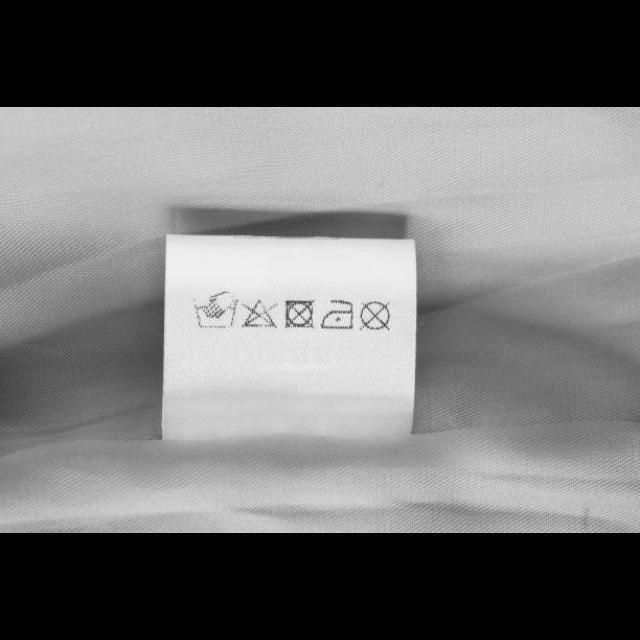DN_bleach: (239, 296, 281, 330)
DN_dry_clean: (356, 298, 394, 334)
DN_tumble_dry: (281, 296, 317, 330)
hand_wash: (191, 290, 241, 332)
iron_low: (318, 297, 358, 333)
